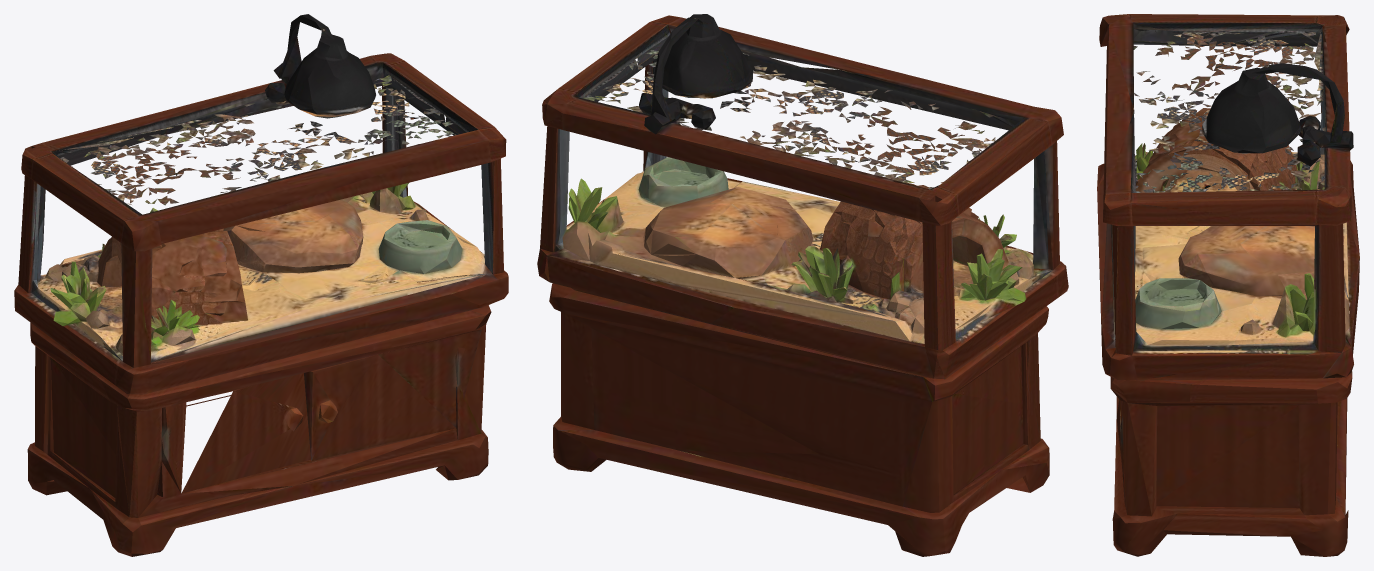
Rendered from terrarium.glb.
The picture shows the model from 3 angles, left to right: view 1: azimuth 30°, elevation 25°; view 2: azimuth 150°, elevation 25°; view 3: azimuth 270°, elevation 25°; orthographic projection. The views are drawn at different scales.
Visible parts, largest first — view 1: output_unwrapped; view 2: output_unwrapped; view 3: output_unwrapped.
Boxes of the visible parts, x1,y1,x2,y2 form: output_unwrapped: (14,14,508,556); output_unwrapped: (537,14,1068,556); output_unwrapped: (1097,14,1359,556).
Bounding box in the file's own units: 1.9 × 1.88 × 1.01.
1 material, 1 textured.
